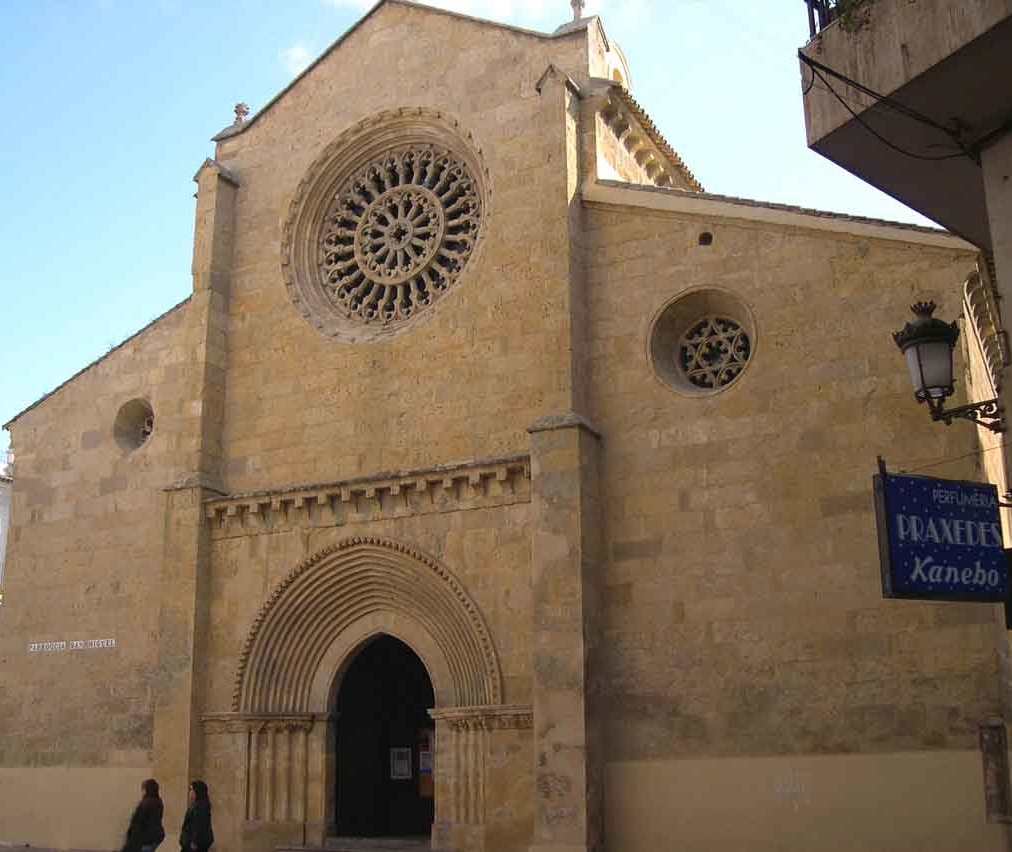arco-apuntado: (320, 626, 440, 729)
